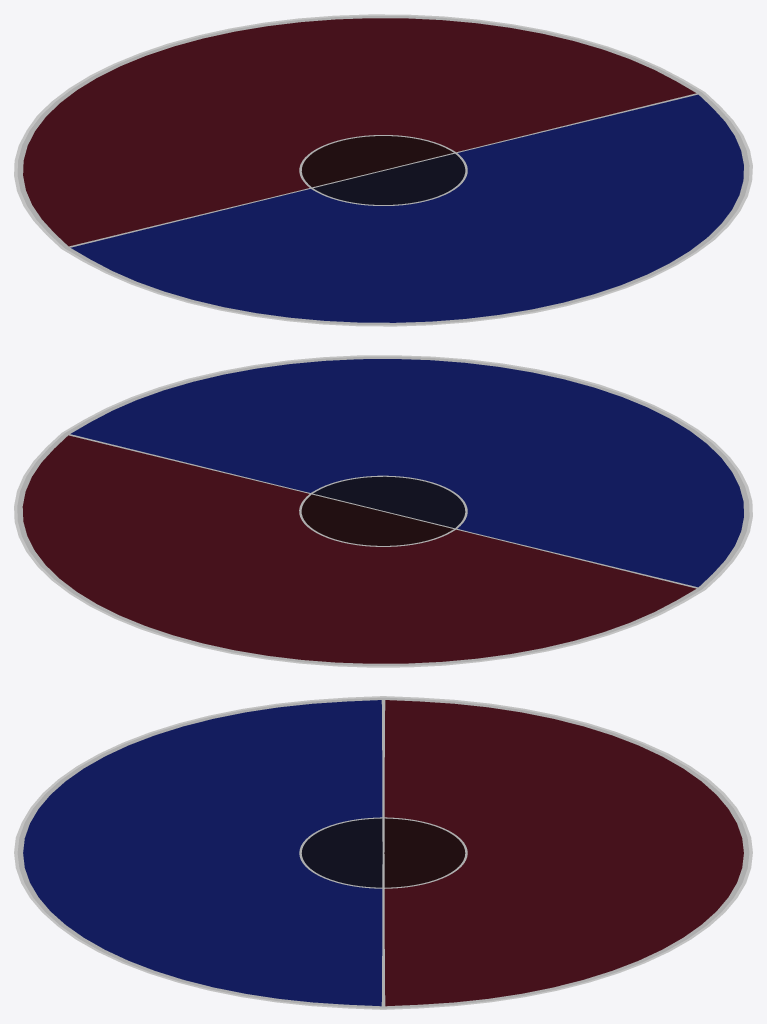
File: sadiumRef.fbx
3 views of the same model, one above another, from view 1: azimuth 30°, elevation 25°; view 2: azimuth 150°, elevation 25°; view 3: azimuth 270°, elevation 25° (orthographic).
Visible parts, largest first — view 1: ring.001; view 2: ring.001; view 3: ring.001.
Part boxes in pixels (x1,y1,x2,y2): ring.001: (14,14,752,326); ring.001: (14,355,752,667); ring.001: (14,696,752,1009).
Size of the model in its own units: 11552 by 0.000743 by 11492.
